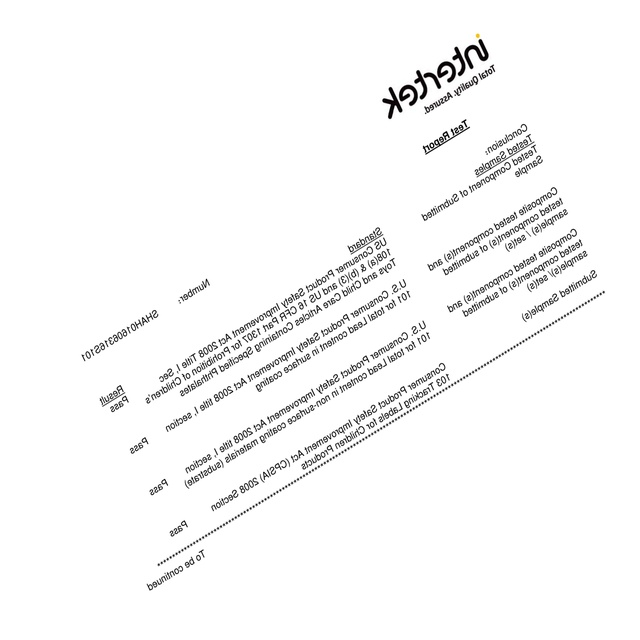intertek: (377, 30, 502, 121)
